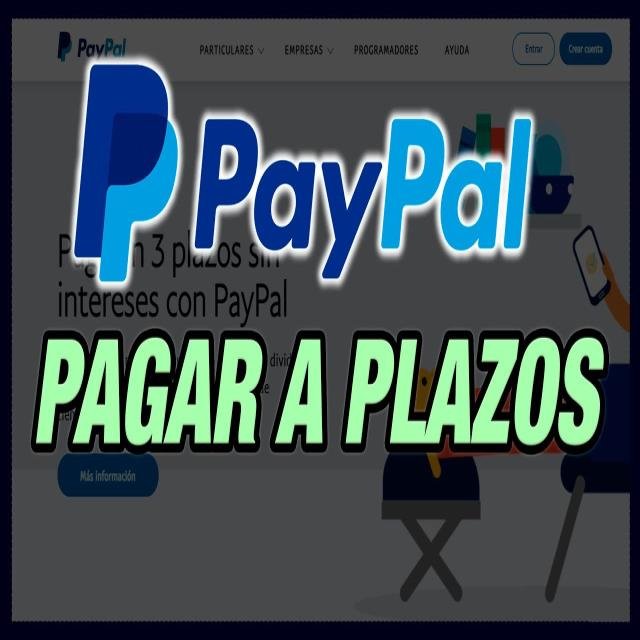paypal: (74, 64, 178, 284), (57, 31, 72, 61)
paypal_txt: (195, 116, 531, 279), (78, 38, 126, 62)
